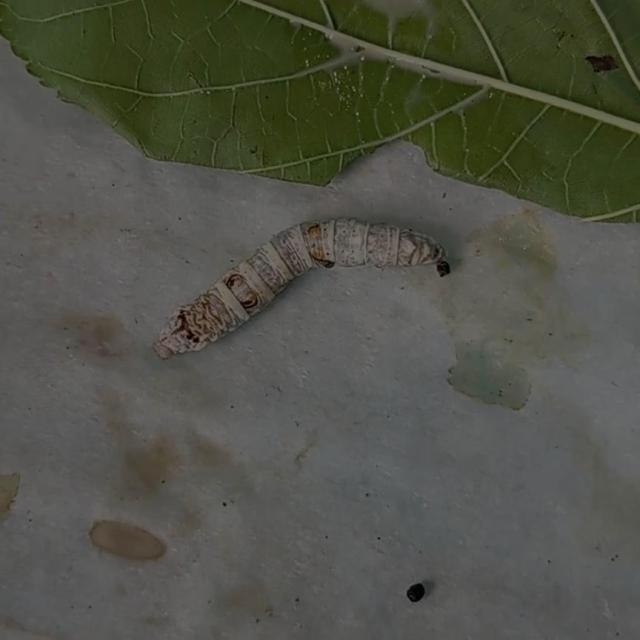Grasserie: (140, 174, 464, 384)
